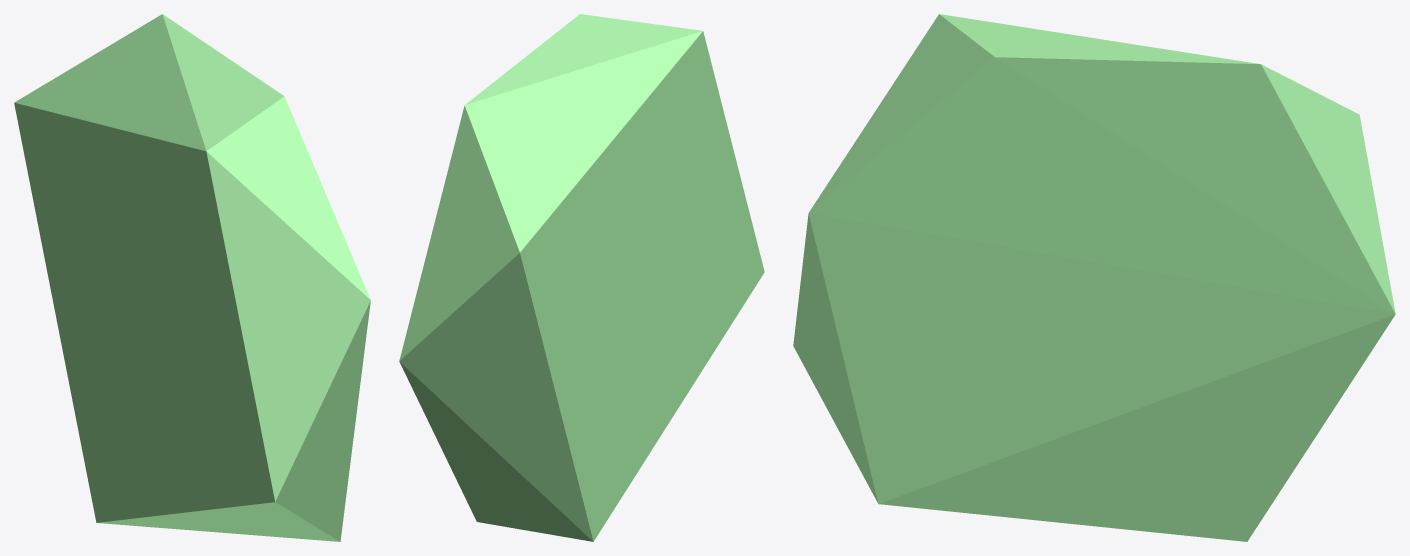
File: linkhou_LR4_R560_link6_respondable_coll_38.dae
3 renders of one model, left to right at view 1: azimuth 30°, elevation 25°; view 2: azimuth 150°, elevation 25°; view 3: azimuth 270°, elevation 25°, orthographic. The views are drawn at different scales.
Parts seen in each view (by area): view 1: Node_00000209DB3ADE40; view 2: Node_00000209DB3ADE40; view 3: Node_00000209DB3ADE40.
Part boxes in pixels (x1=…): Node_00000209DB3ADE40: x1=14, y1=14, x2=370, y2=541; Node_00000209DB3ADE40: x1=399, y1=14, x2=764, y2=541; Node_00000209DB3ADE40: x1=793, y1=14, x2=1395, y2=541.
Bounding box in the file's own units: 0.00945 × 0.0382 × 0.0409.
